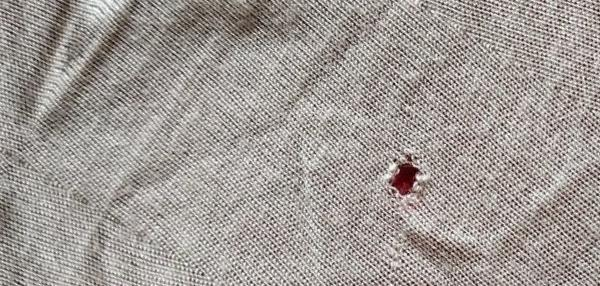hole: (378, 146, 433, 201)
